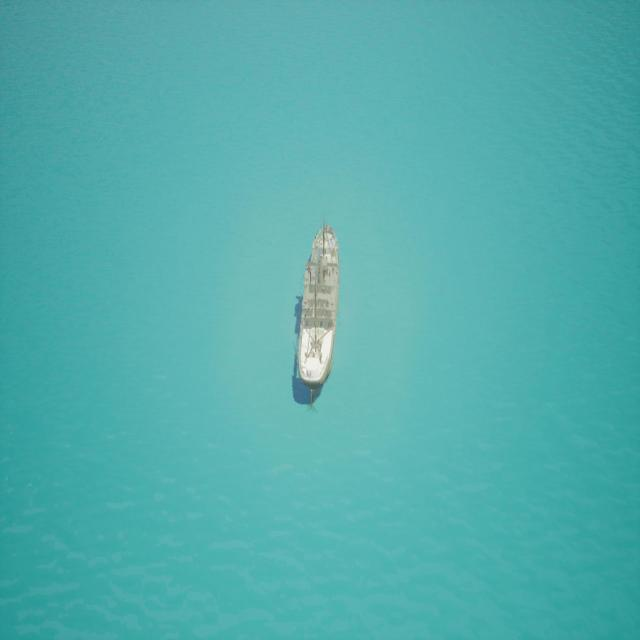fishing ship: (294, 218, 342, 410)
